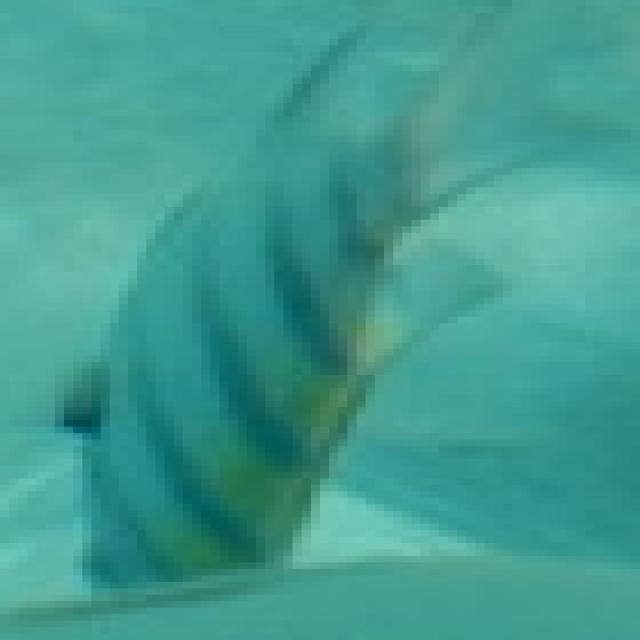fish: (9, 0, 640, 634)
